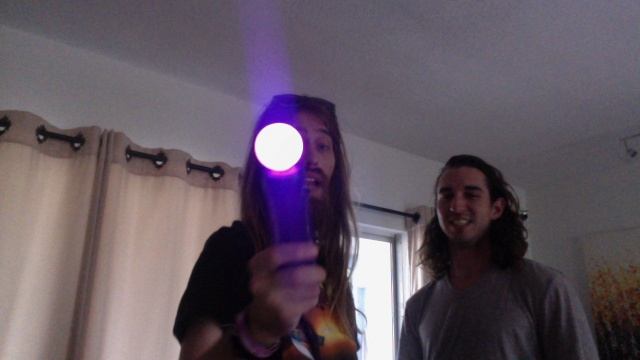wand: (256, 124, 303, 172)
